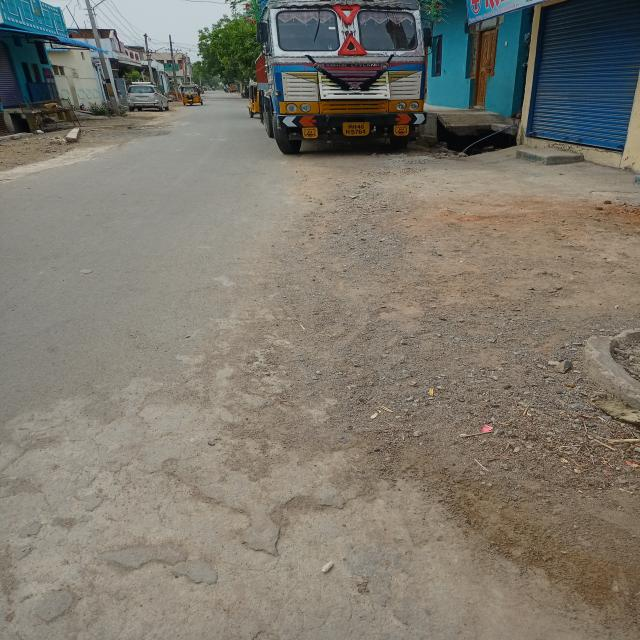Autorickshaw: (178, 81, 204, 116), (248, 78, 262, 119), (230, 81, 239, 92)
Car: (124, 82, 175, 112)
Truck: (258, 1, 441, 156)
